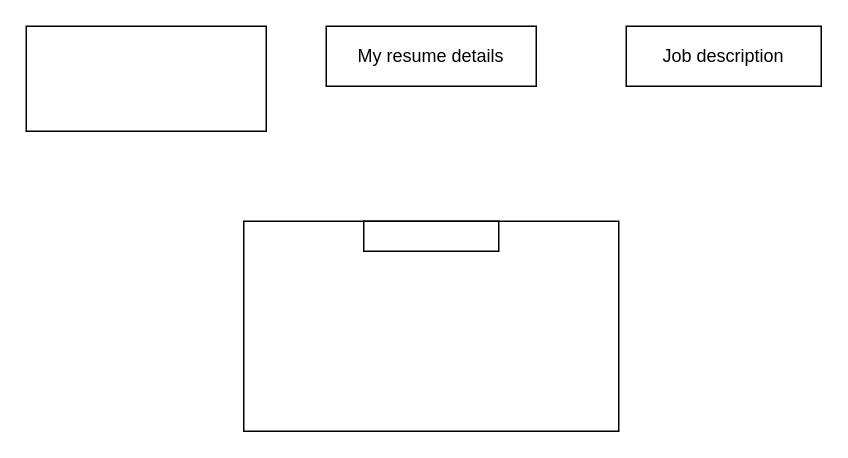
Some shapes in this 848 by 458 pixel diagram are drawn without their labels. The shapes that lost their labels are listed below. From the top down, each one's centre as x and y in pixels, then its label:
the point at 145,78: Overleaf JV's Resume Template CODE
the point at 430,235: ChatGPT
